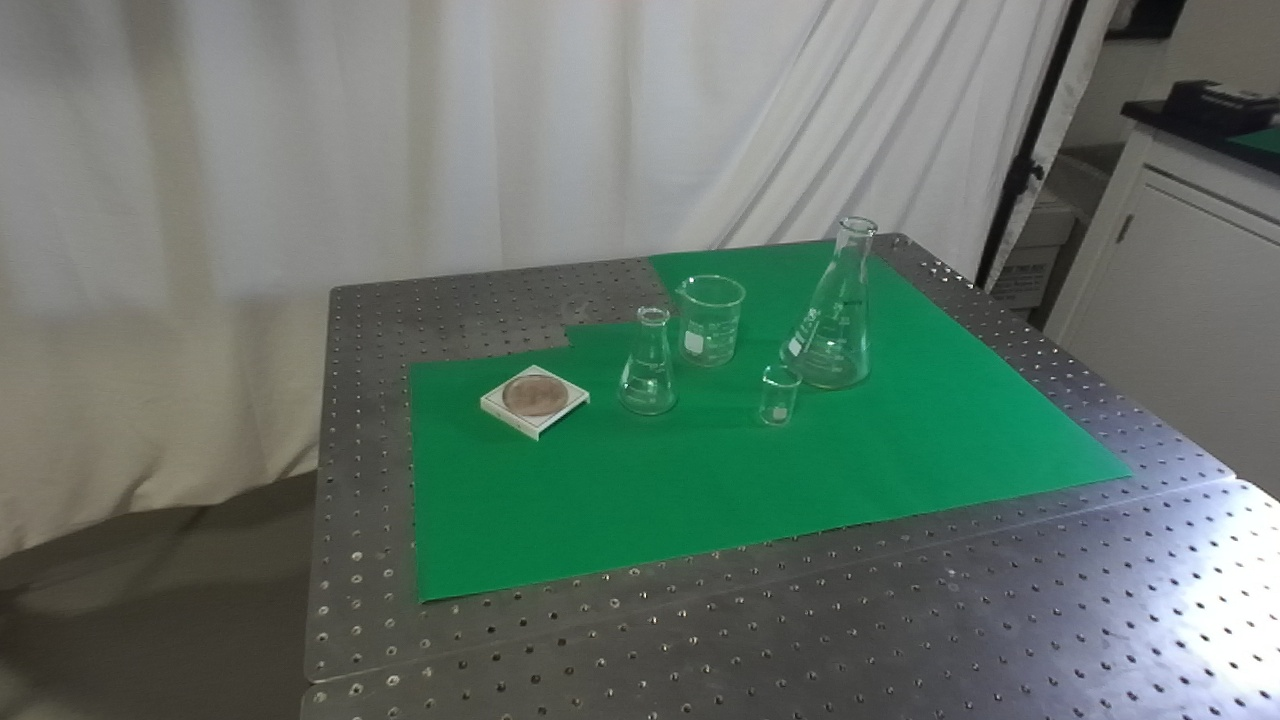glass: (776, 214, 878, 391), (614, 301, 681, 418), (676, 274, 747, 371), (757, 363, 802, 428)
plate: (474, 360, 593, 443)
